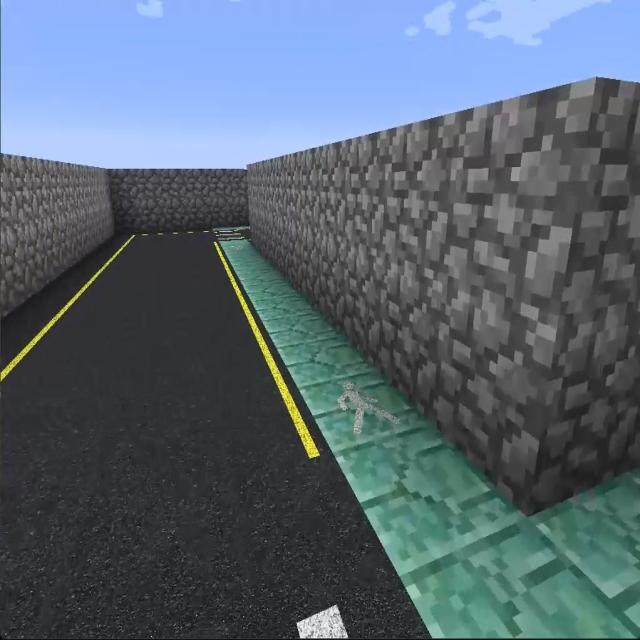road: (5, 230, 374, 618)
sidewalk: (222, 241, 639, 638)
